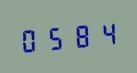eight: (68, 20, 92, 50)
five: (43, 22, 67, 53)
four: (93, 17, 117, 48)
zero: (18, 24, 42, 55)
